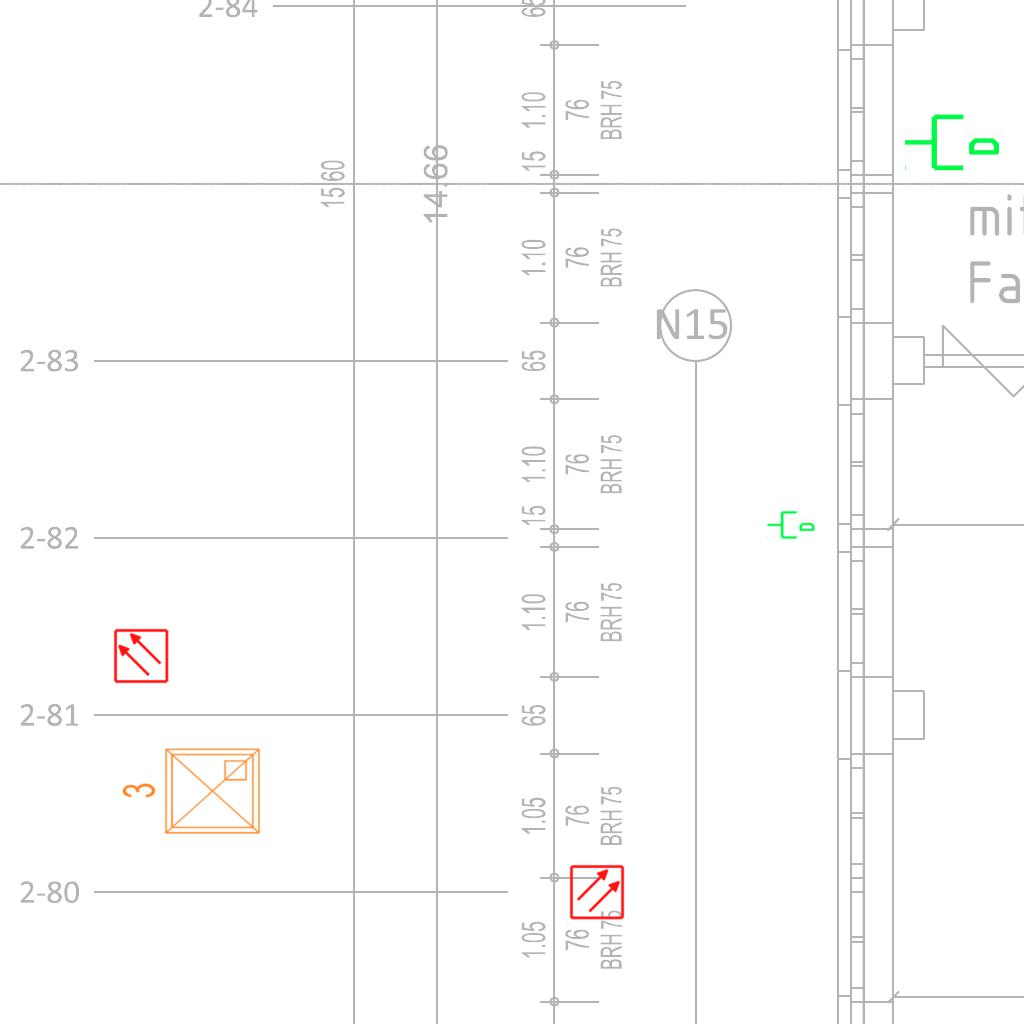Datenanschluss_einfach: (902, 106, 1002, 175), (766, 507, 816, 541)
Einbaudownlights_LED_Konferenzraeume: (117, 741, 267, 845)
RMO_Rauchmelder_optischer: (113, 628, 169, 684), (569, 864, 625, 920)
